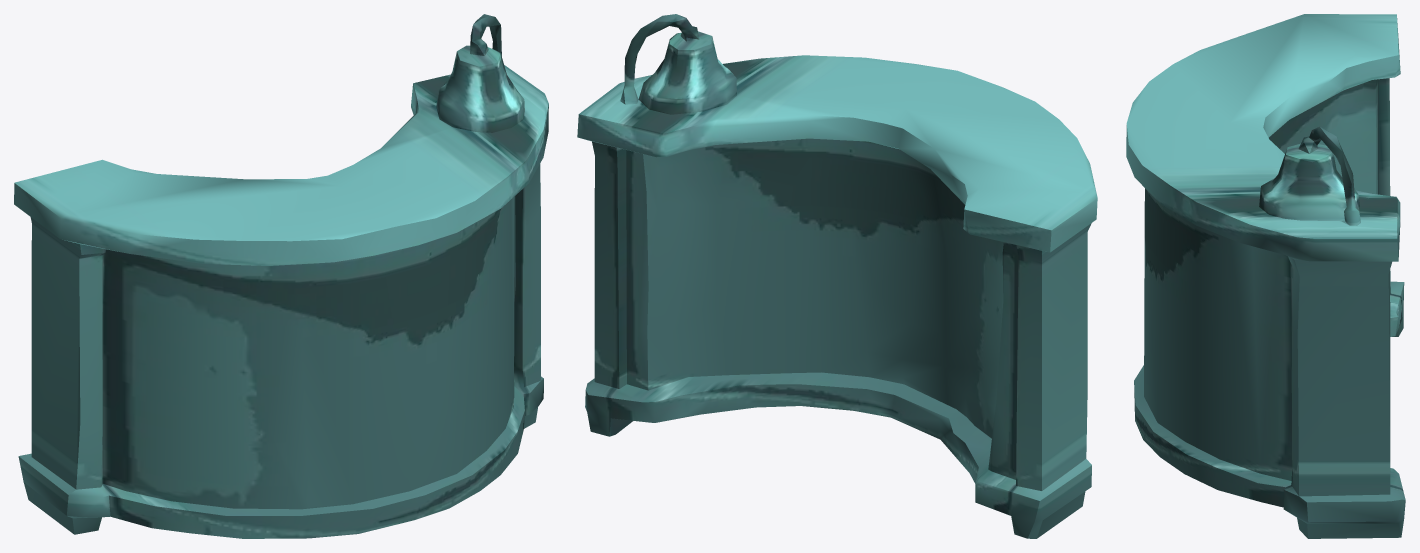
3 views of the same model, side by side, from view 1: azimuth 30°, elevation 25°; view 2: azimuth 150°, elevation 25°; view 3: azimuth 270°, elevation 25° (orthographic). The views are drawn at different scales.
Parts seen in each view (by area): view 1: Decor_info_desk_c_teal; view 2: Decor_info_desk_c_teal; view 3: Decor_info_desk_c_teal.
Boxes of the visible parts, x1,y1,x2,y2 form: Decor_info_desk_c_teal: (14,14,548,538); Decor_info_desk_c_teal: (577,14,1097,538); Decor_info_desk_c_teal: (1126,14,1405,538).
Size of the model in its own units: 1.36 by 1.1 by 0.7119.
1 material, 1 textured.
